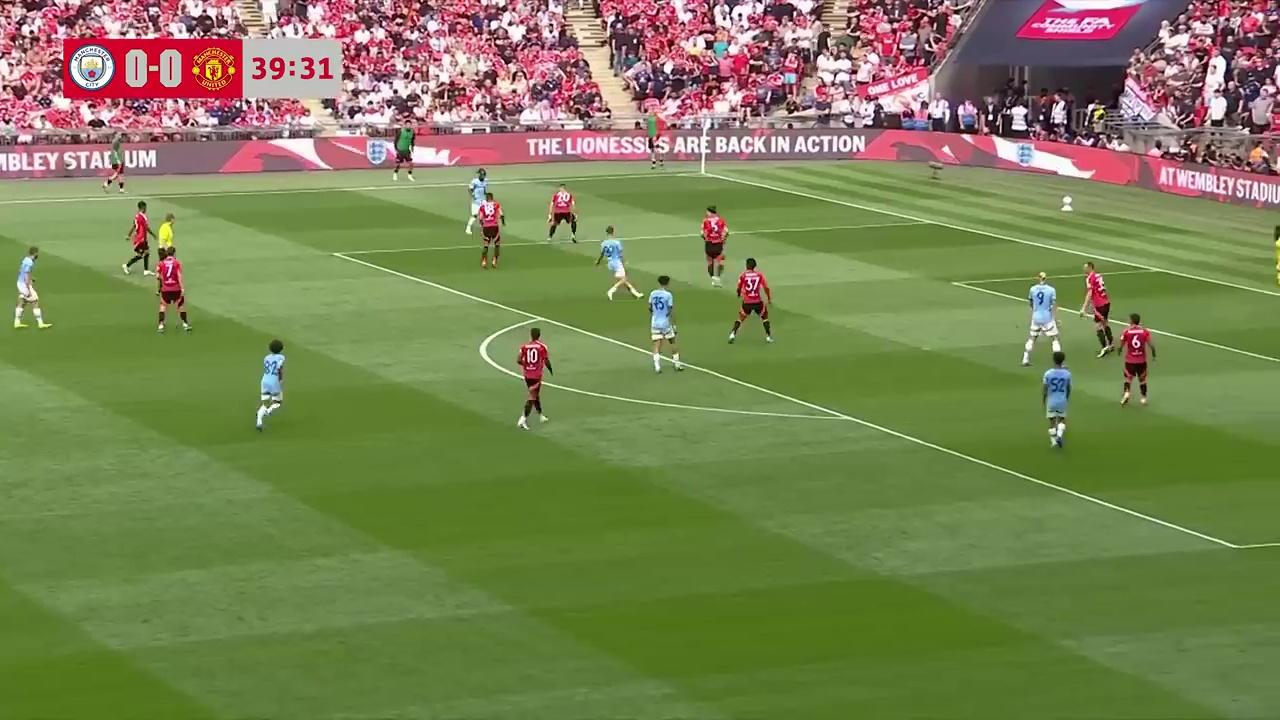player: (1114, 313, 1156, 408), (728, 258, 773, 346), (516, 327, 552, 430), (594, 225, 639, 302), (647, 276, 682, 372), (1021, 272, 1060, 358), (1039, 349, 1072, 450), (12, 245, 51, 330), (154, 248, 191, 333), (256, 338, 285, 431), (123, 201, 154, 276), (701, 205, 728, 284), (547, 184, 579, 244), (480, 194, 504, 269), (1087, 286, 1113, 355), (1079, 262, 1104, 322), (465, 177, 487, 236)
referee: (152, 210, 176, 267)
